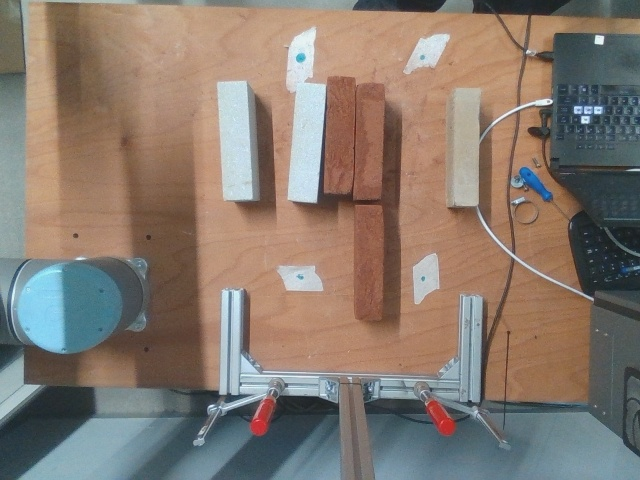brick-side: (288, 82, 326, 200), (220, 81, 252, 199), (353, 203, 382, 320), (354, 82, 382, 199), (451, 87, 479, 204), (326, 75, 353, 192)
